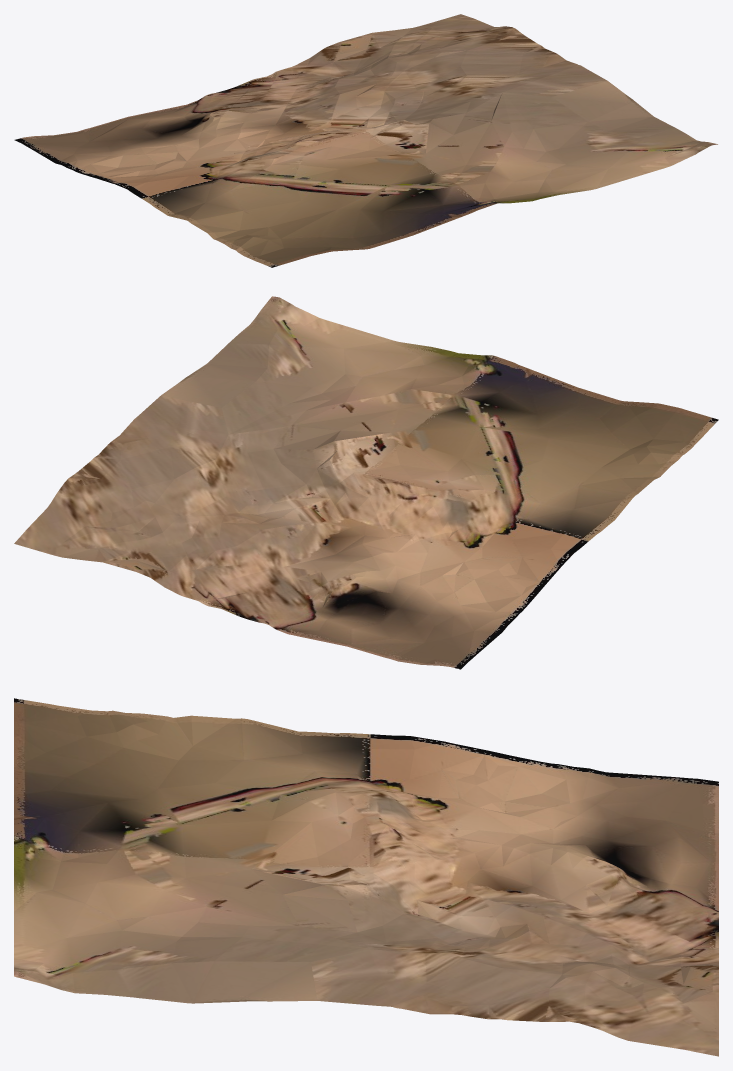
3 renders of one model, top to bottom at view 1: azimuth 30°, elevation 25°; view 2: azimuth 150°, elevation 25°; view 3: azimuth 270°, elevation 25°, orthographic. The views are drawn at different scales.
Size of the model in its own units: 2.09 by 0.3718 by 2.09.
2 materials, 2 textured.
